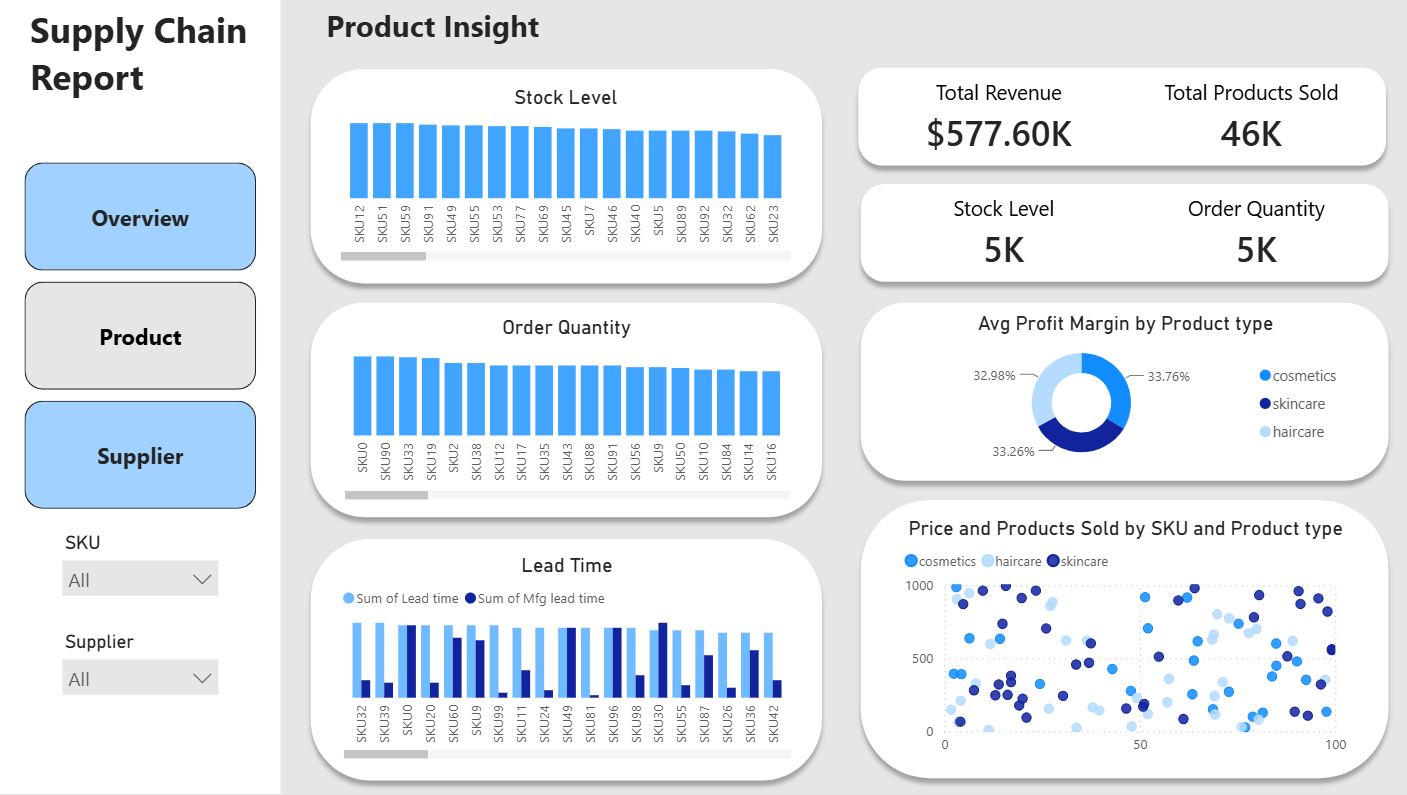

The dashboard page shown, as its layout file describes it:
{"tool":"powerbi","page":{"name":"Product","canvas":[1280,720],"ordinal":1},"visuals":[{"type":"shape","box":[225.9,0,1054.1,720.2],"z":0},{"type":"shape","box":[767.1,52.1,496.7,107],"z":1000},{"type":"shape","box":[0,0,252.5,720],"z":2000},{"type":"shape","box":[271.5,264.9,481.8,212.8],"z":3000},{"type":"clusteredColumnChart","title":"Order Quantity ","fields":{"Category":["supply_chain_data.SKU"],"Y":["Measures_.Order Quantity"]},"box":[304.5,285.7,414.5,172.4],"z":4000},{"type":"textbox","box":[289.5,0,263.5,63.1],"z":5000},{"type":"shape","box":[271.5,52.7,481.8,212.8],"z":6000},{"type":"clusteredColumnChart","title":"Stock Level ","fields":{"Category":["supply_chain_data.SKU"],"Y":["Measures_.Stock Level"]},"box":[302,77.2,419.4,163.9],"z":7000},{"type":"shape","box":[270.6,479.7,481.6,237.4],"z":8000},{"type":"clusteredColumnChart","title":"Lead Time","fields":{"Y":["Sum(supply_chain_data.Lead time)","Sum(supply_chain_data.Mfg lead time)"],"Category":["supply_chain_data.SKU"]},"box":[303.5,502,417.2,190.7],"z":9000},{"type":"cardVisual","fields":{"Data":["Measures_.Total Revenue","Measures_.Total Products Sold"]},"box":[776.7,24.7,484.4,161.9],"z":10000},{"type":"shape","box":[769.8,444.6,496.7,270.3],"z":11000},{"type":"shape","box":[769.8,264.8,496.7,179.8],"z":12000},{"type":"shape","box":[769.8,157.8,496.7,107],"z":13000},{"type":"cardVisual","fields":{"Data":["Measures_.Stock Level","Measures_.Order Quantity"]},"box":[780.8,130.4,484.4,161.9],"z":14000},{"type":"donutChart","title":"Avg Profit Margin by Product type","fields":{"Y":["Measures_.Avg Profit Margin %"],"Category":["supply_chain_data.Product type"]},"box":[813.7,282.7,410.3,145.5],"z":15000},{"type":"scatterChart","title":"Price and Products Sold by SKU and Product type","fields":{"Category":["supply_chain_data.SKU"],"X":["Sum(supply_chain_data.Price)"],"Y":["Measures_.Total Products Sold"],"Series":["supply_chain_data.Product type"]},"box":[813.7,467.9,410.3,225],"z":16000},{"type":"slicer","fields":{"Values":["supply_chain_data.SKU"]},"box":[43.9,477.5,161.9,70],"z":17000},{"type":"slicer","fields":{"Values":["supply_chain_data.Supplier name"]},"box":[43.9,566.7,161.9,70],"z":18000},{"type":"textbox","box":[20.6,0,219.6,101.5],"z":19000},{"type":"pageNavigator","box":[20,147.1,210,315.7],"z":20000}]}

Visuals, with their boxes in screenshot pixels (x1, y1, x2, y2), scaled from the page's 1280x720 canvas onto the 1407x795 screenshot:
shape: bbox(248, 0, 1406, 794)
shape: bbox(843, 58, 1389, 176)
shape: bbox(0, 0, 278, 794)
shape: bbox(298, 292, 828, 527)
"Order Quantity " clusteredColumnChart: bbox(335, 315, 790, 506)
textbox: bbox(318, 0, 608, 70)
shape: bbox(298, 58, 828, 293)
"Stock Level " clusteredColumnChart: bbox(332, 85, 793, 266)
shape: bbox(297, 530, 827, 792)
"Lead Time" clusteredColumnChart: bbox(334, 554, 792, 765)
cardVisual - Measures_.Total Revenue x Measures_.Total Products Sold: bbox(854, 27, 1386, 206)
shape: bbox(846, 491, 1392, 789)
shape: bbox(846, 292, 1392, 491)
shape: bbox(846, 174, 1392, 292)
cardVisual - Measures_.Stock Level x Measures_.Order Quantity: bbox(858, 144, 1391, 323)
"Avg Profit Margin by Product type" donutChart: bbox(894, 312, 1345, 473)
"Price and Products Sold by SKU and Product type" scatterChart: bbox(894, 517, 1345, 765)
slicer - supply_chain_data.SKU: bbox(48, 527, 226, 605)
slicer - supply_chain_data.Supplier name: bbox(48, 626, 226, 703)
textbox: bbox(23, 0, 264, 112)
pageNavigator: bbox(22, 162, 253, 511)
